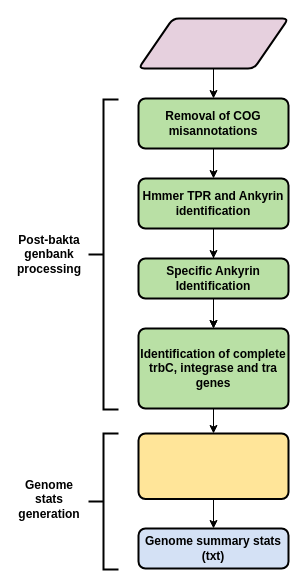
This 306x587 diagram has some shape labels left out. The shapes that lost their labels are listed below. From the top down, each one's centre as x and y in pixels, then its label:
At [213,43]: "Bakta Annotations".
At [213,466]: "Identifying RAGE derived regions and complete RAGE (bed)".
